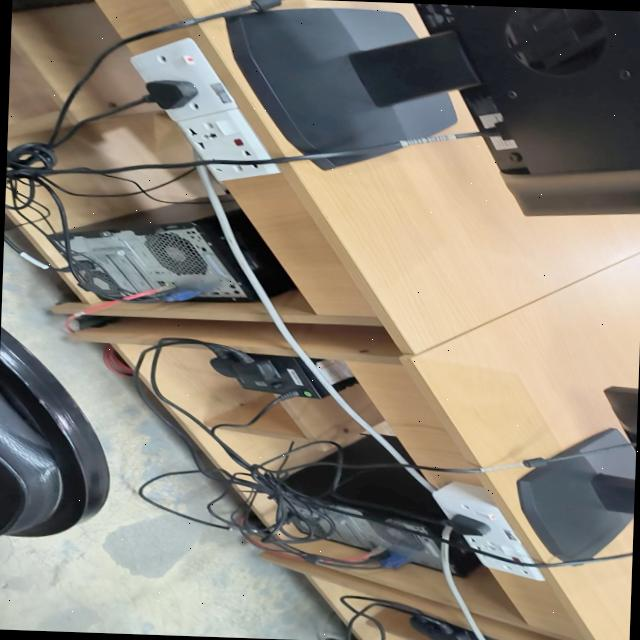Chair: (0, 327, 108, 537)
Cpu: (68, 197, 257, 302), (284, 452, 446, 569), (216, 195, 294, 296), (339, 435, 397, 467), (449, 534, 479, 577)
Monitor: (224, 3, 640, 216), (515, 386, 638, 562)
